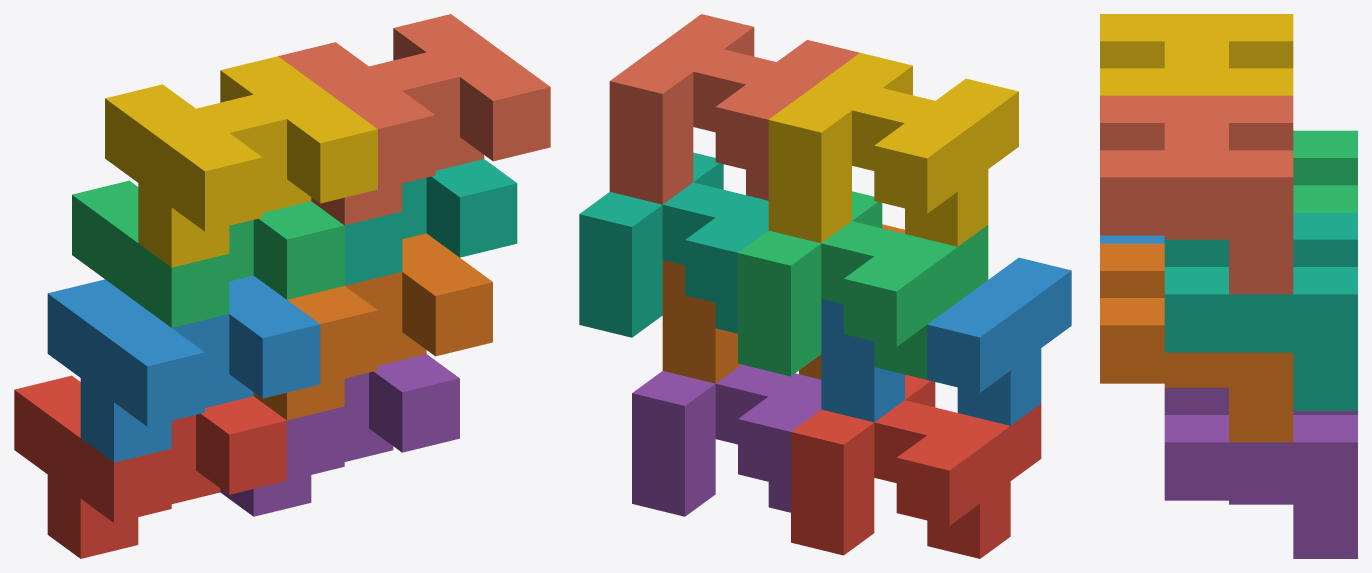
File: tiling.obj
3 renders of one model, left to right at view 1: azimuth 30°, elevation 25°; view 2: azimuth 150°, elevation 25°; view 3: azimuth 270°, elevation 25°, orthographic. The views are drawn at different scales.
Parts seen in each view (by area): view 1: copy_1_domain_4, copy_1_domain_2, copy_1_domain_8, copy_1_domain_1, copy_1_domain_3, copy_1_domain_6, copy_1_domain_5, copy_1_domain_7; view 2: copy_1_domain_4, copy_1_domain_1, copy_1_domain_3, copy_1_domain_8, copy_1_domain_2, copy_1_domain_7, copy_1_domain_5, copy_1_domain_6; view 3: copy_1_domain_8, copy_1_domain_7, copy_1_domain_5, copy_1_domain_6, copy_1_domain_4, copy_1_domain_3, copy_1_domain_2.
Boxes of the visible parts, <box> form: copy_1_domain_4: <box>105,56,377,267</box>; copy_1_domain_2: <box>47,275,320,462</box>; copy_1_domain_8: <box>278,14,550,225</box>; copy_1_domain_1: <box>14,375,286,558</box>; copy_1_domain_3: <box>72,180,344,327</box>; copy_1_domain_6: <box>253,233,492,420</box>; copy_1_domain_5: <box>220,354,459,516</box>; copy_1_domain_7: <box>344,159,517,285</box>; copy_1_domain_4: <box>768,52,1018,246</box>; copy_1_domain_1: <box>791,374,1041,558</box>; copy_1_domain_3: <box>738,191,988,379</box>; copy_1_domain_8: <box>609,14,859,204</box>; copy_1_domain_2: <box>821,257,1071,425</box>; copy_1_domain_7: <box>579,152,768,337</box>; copy_1_domain_5: <box>632,364,821,516</box>; copy_1_domain_6: <box>662,224,904,383</box>; copy_1_domain_8: <box>1100,95,1293,294</box>; copy_1_domain_7: <box>1164,212,1357,410</box>; copy_1_domain_5: <box>1164,387,1357,558</box>; copy_1_domain_6: <box>1100,243,1293,442</box>; copy_1_domain_4: <box>1100,14,1293,95</box>; copy_1_domain_3: <box>1293,130,1357,212</box>; copy_1_domain_2: <box>1100,235,1164,243</box>.
Size of the model in its own units: 7 by 7 by 4.
